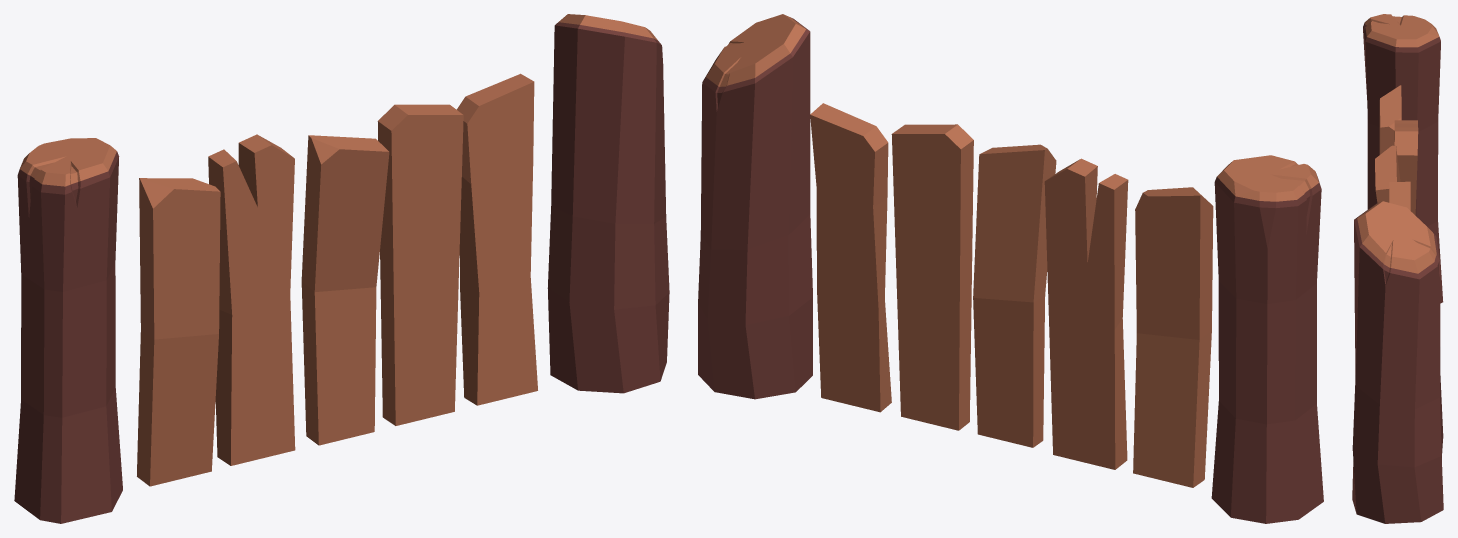
File: Fence Wooden Blunt 11.fbx
3 views of the same model, side by side, from view 1: azimuth 30°, elevation 25°; view 2: azimuth 150°, elevation 25°; view 3: azimuth 270°, elevation 25° (orthographic). The views are drawn at different scales.
Visible parts, largest first — view 1: Wooden Pole Blunt 11; view 2: Wooden Pole Blunt 11; view 3: Wooden Pole Blunt 11.
Boxes of the visible parts, box(x1,y1,x2,y2) form: Wooden Pole Blunt 11: box(14, 14, 669, 523); Wooden Pole Blunt 11: box(698, 14, 1323, 523); Wooden Pole Blunt 11: box(1352, 14, 1443, 523).
Size of the model in its own units: 199 by 111 by 31.56.
